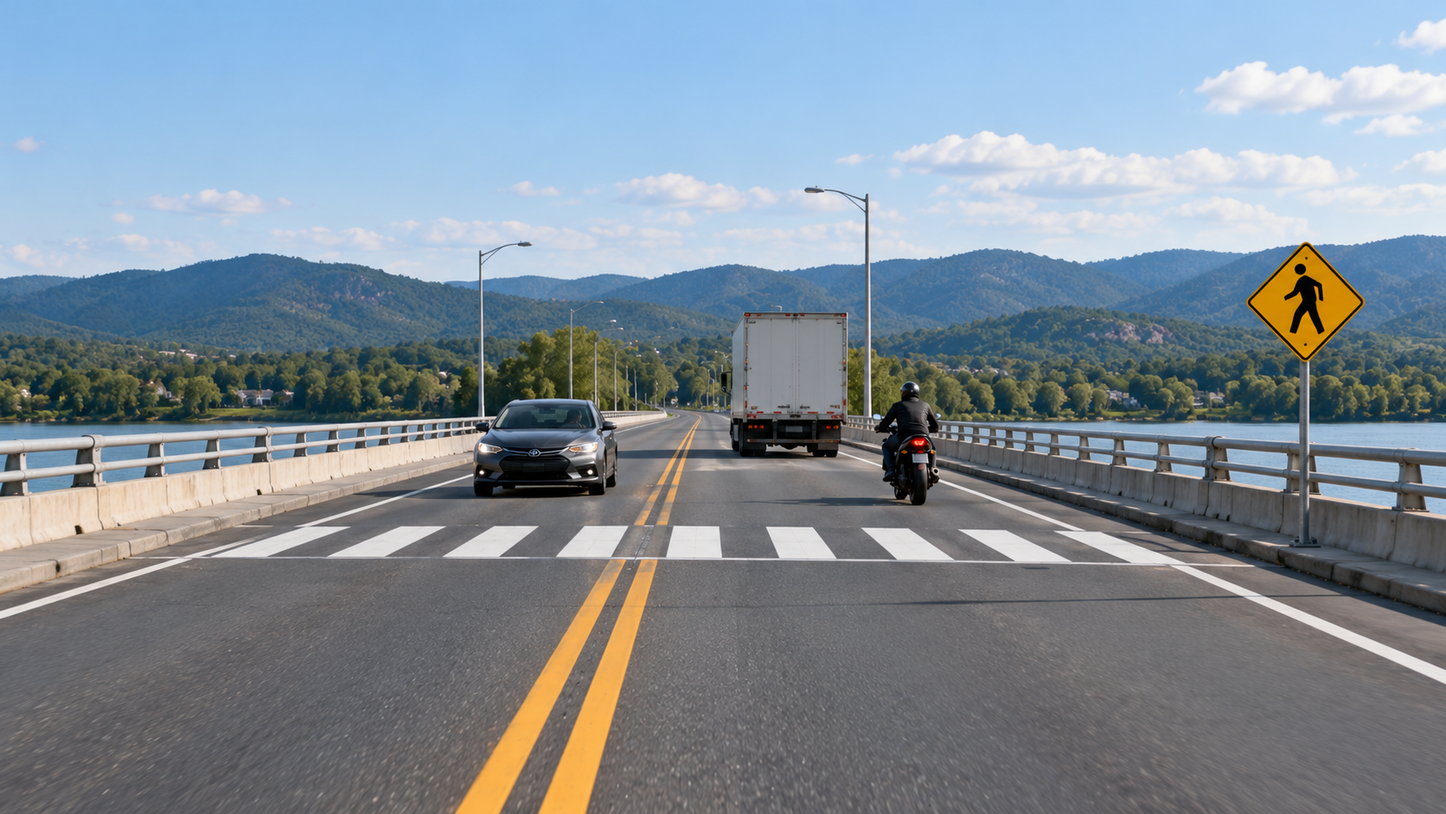car: (476, 400, 619, 496)
crossing_warning_sign: (1247, 242, 1366, 363)
motorcycle: (873, 383, 946, 503)
person: (878, 383, 937, 489)
truck: (733, 311, 848, 458)
zebra_crossing: (0, 512, 1446, 568)
